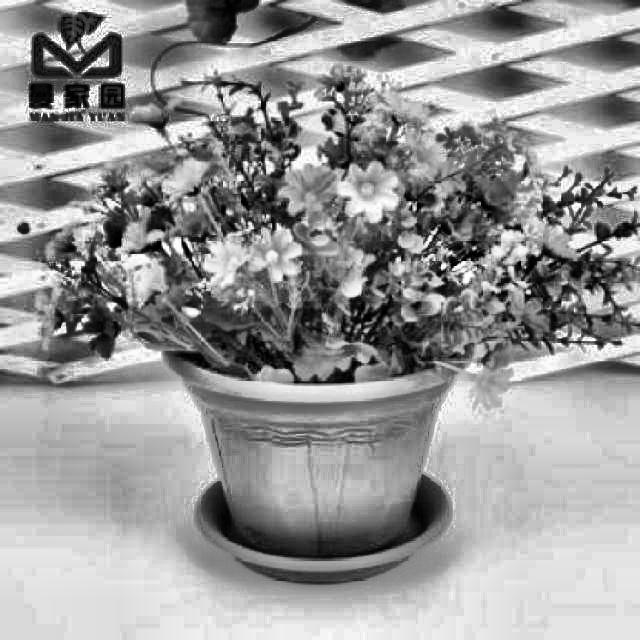plants: (163, 103, 463, 543)
